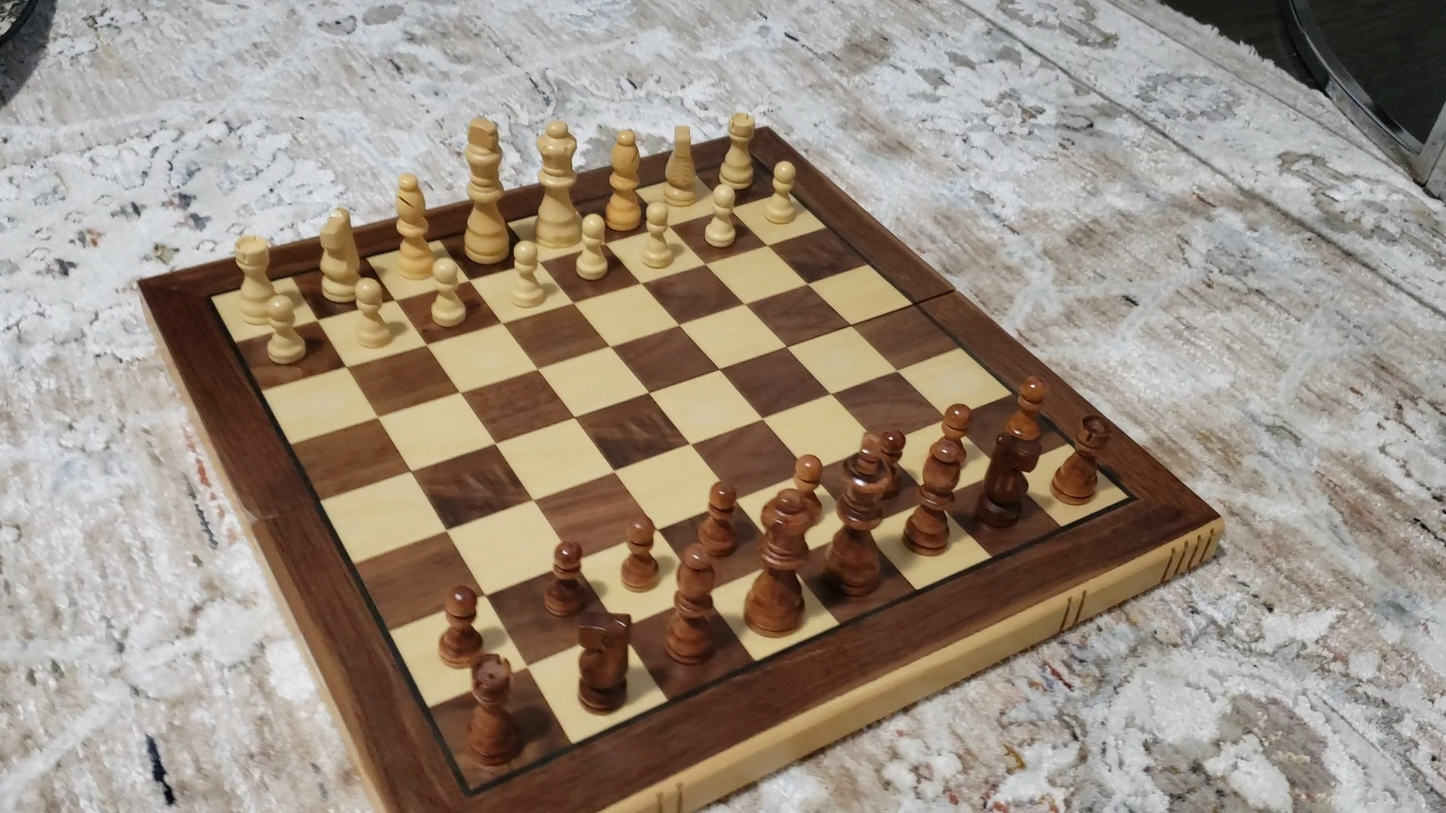black-bishop: (898, 432, 974, 567), (665, 547, 718, 663)
black-king: (820, 426, 899, 608)
black-knight: (971, 425, 1044, 542), (576, 612, 631, 714)
black-pawn: (431, 583, 489, 672), (1002, 373, 1058, 449), (699, 477, 742, 558), (784, 451, 833, 522), (544, 539, 586, 617), (619, 517, 658, 591)
black-queen: (744, 485, 818, 645)
black-rook: (1050, 412, 1116, 519), (465, 655, 522, 766)
white-bishop: (394, 174, 435, 283), (605, 126, 642, 231)
white-king: (463, 117, 510, 263)
white-knight: (319, 204, 361, 304), (663, 124, 696, 210)
white-pawn: (489, 234, 556, 317), (629, 191, 684, 281), (256, 295, 314, 376), (564, 205, 615, 288), (346, 275, 396, 354), (699, 175, 746, 258), (758, 154, 807, 232), (422, 255, 467, 335)
white-queen: (534, 117, 582, 252)
white-rook: (717, 106, 764, 201), (233, 232, 277, 327)
